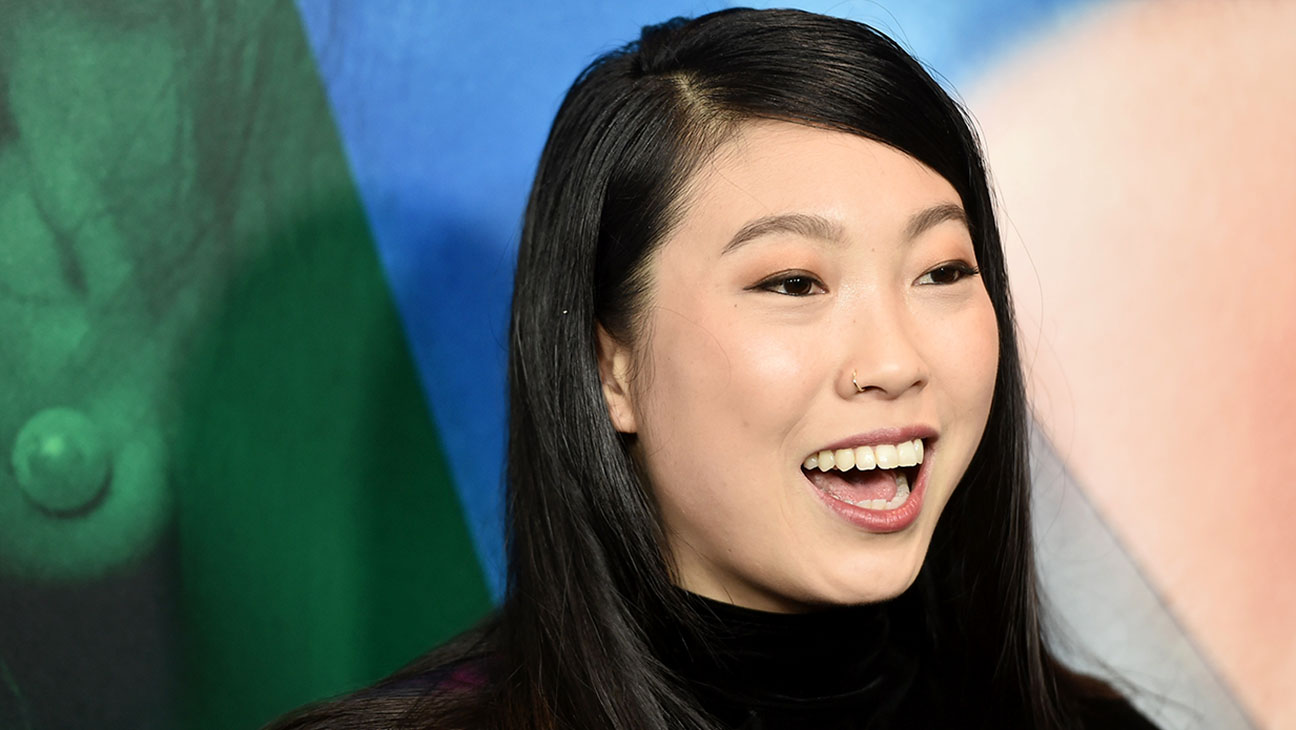bare: (607, 315, 1011, 602)
